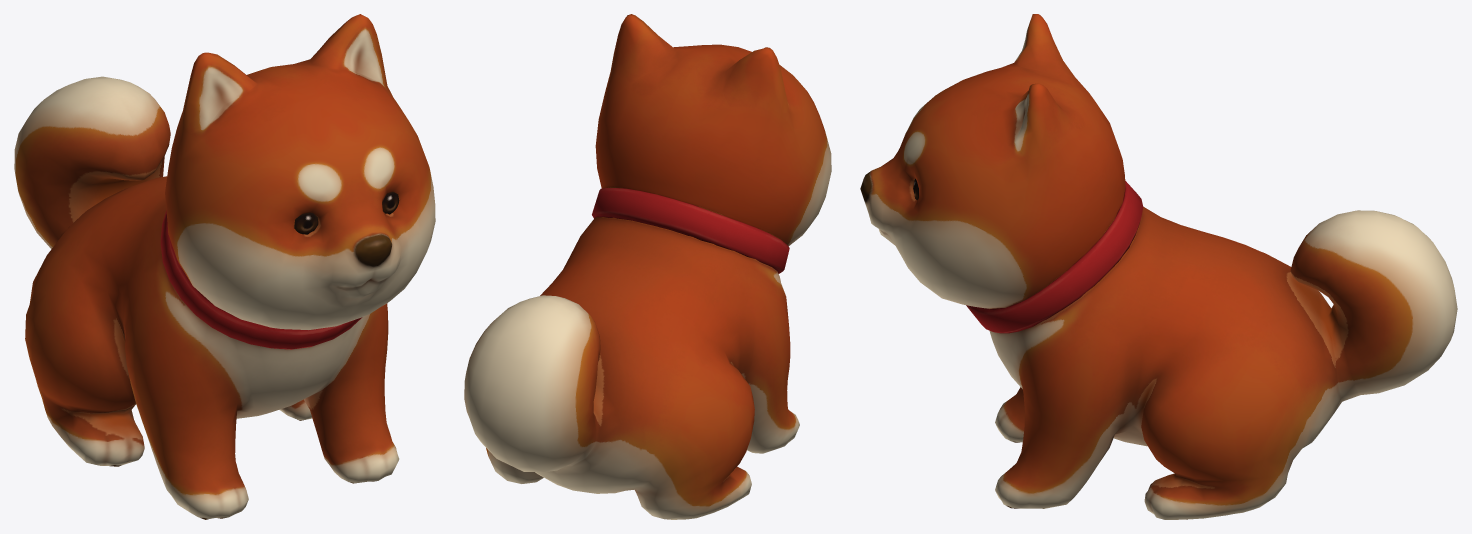
Rendered from shiba.gltf.
The picture shows the model from 3 angles, left to right: view 1: azimuth 30°, elevation 25°; view 2: azimuth 150°, elevation 25°; view 3: azimuth 270°, elevation 25°; orthographic projection. The views are drawn at different scales.
Parts seen in each view (by area): view 1: Node; view 2: Node; view 3: Node.
Part boxes in pixels (x1,y1,x2,y2): Node: (14, 14, 435, 519); Node: (464, 14, 831, 519); Node: (860, 14, 1457, 519).
Size of the model in its own units: 0.9209 by 1.38 by 1.77.
Materials: 1 (1 with a texture image).
